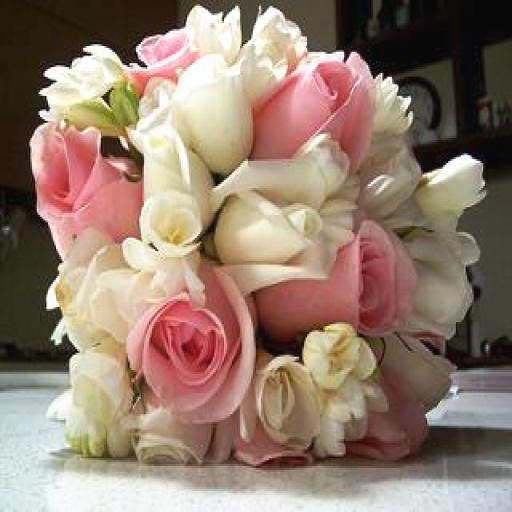rose: (125, 261, 256, 429), (256, 220, 419, 342), (253, 48, 381, 163), (30, 121, 142, 240), (254, 355, 324, 439), (134, 190, 204, 263)
